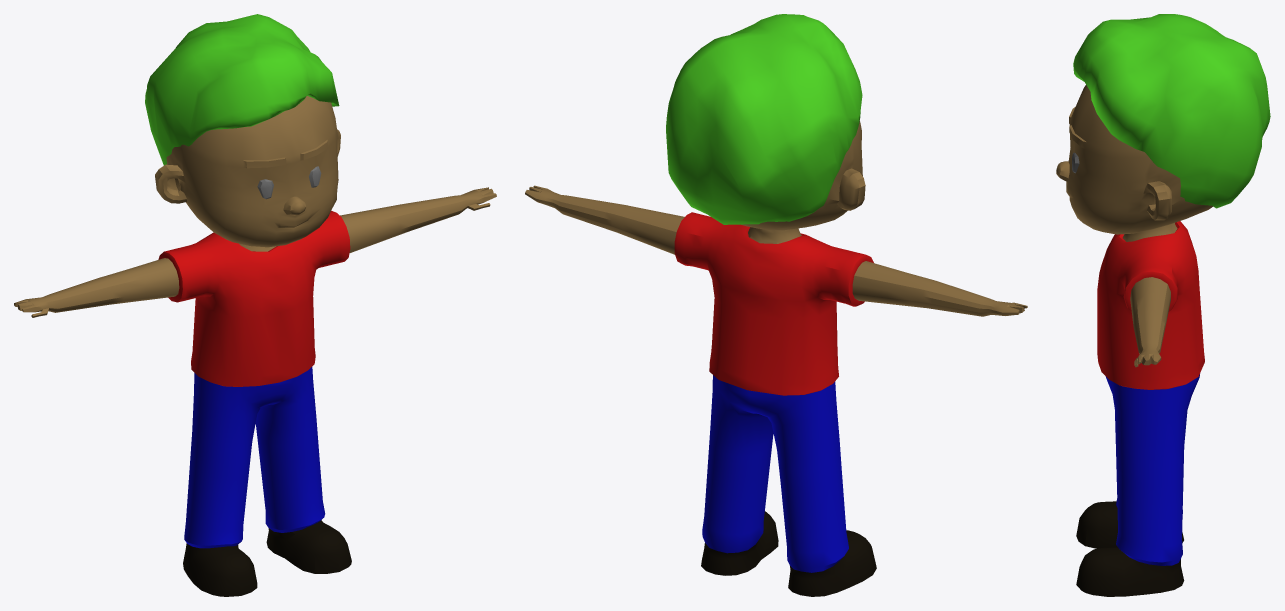
The model's file is carlos.fbx.
3 views of the same model, side by side, from view 1: azimuth 30°, elevation 25°; view 2: azimuth 150°, elevation 25°; view 3: azimuth 270°, elevation 25° (orthographic). The views are drawn at different scales.
Visible parts, largest first — view 1: body_low, tshirt_low, pants_low, boy_hair_2_high, shoes_low; view 2: boy_hair_2_high, tshirt_low, pants_low, body_low, shoes_low; view 3: boy_hair_2_high, body_low, tshirt_low, pants_low, shoes_low.
Boxes of the visible parts, x1,y1,x2,y2 form: body_low: (14, 96, 496, 317); tshirt_low: (158, 210, 350, 386); pants_low: (184, 367, 325, 548); boy_hair_2_high: (145, 14, 339, 165); shoes_low: (183, 520, 351, 596); boy_hair_2_high: (666, 14, 862, 224); tshirt_low: (674, 212, 873, 395); pants_low: (702, 375, 848, 572); body_low: (525, 121, 1027, 316); shoes_low: (701, 511, 876, 596); boy_hair_2_high: (1073, 14, 1270, 208); body_low: (1056, 85, 1212, 367); tshirt_low: (1097, 221, 1204, 389); pants_low: (1105, 374, 1199, 565); shoes_low: (1076, 501, 1184, 596).
Size of the model in its own units: 106 by 111 by 40.53.
